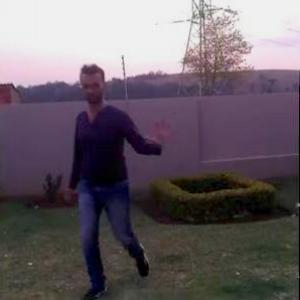follow_hand: (142, 115, 176, 148)
